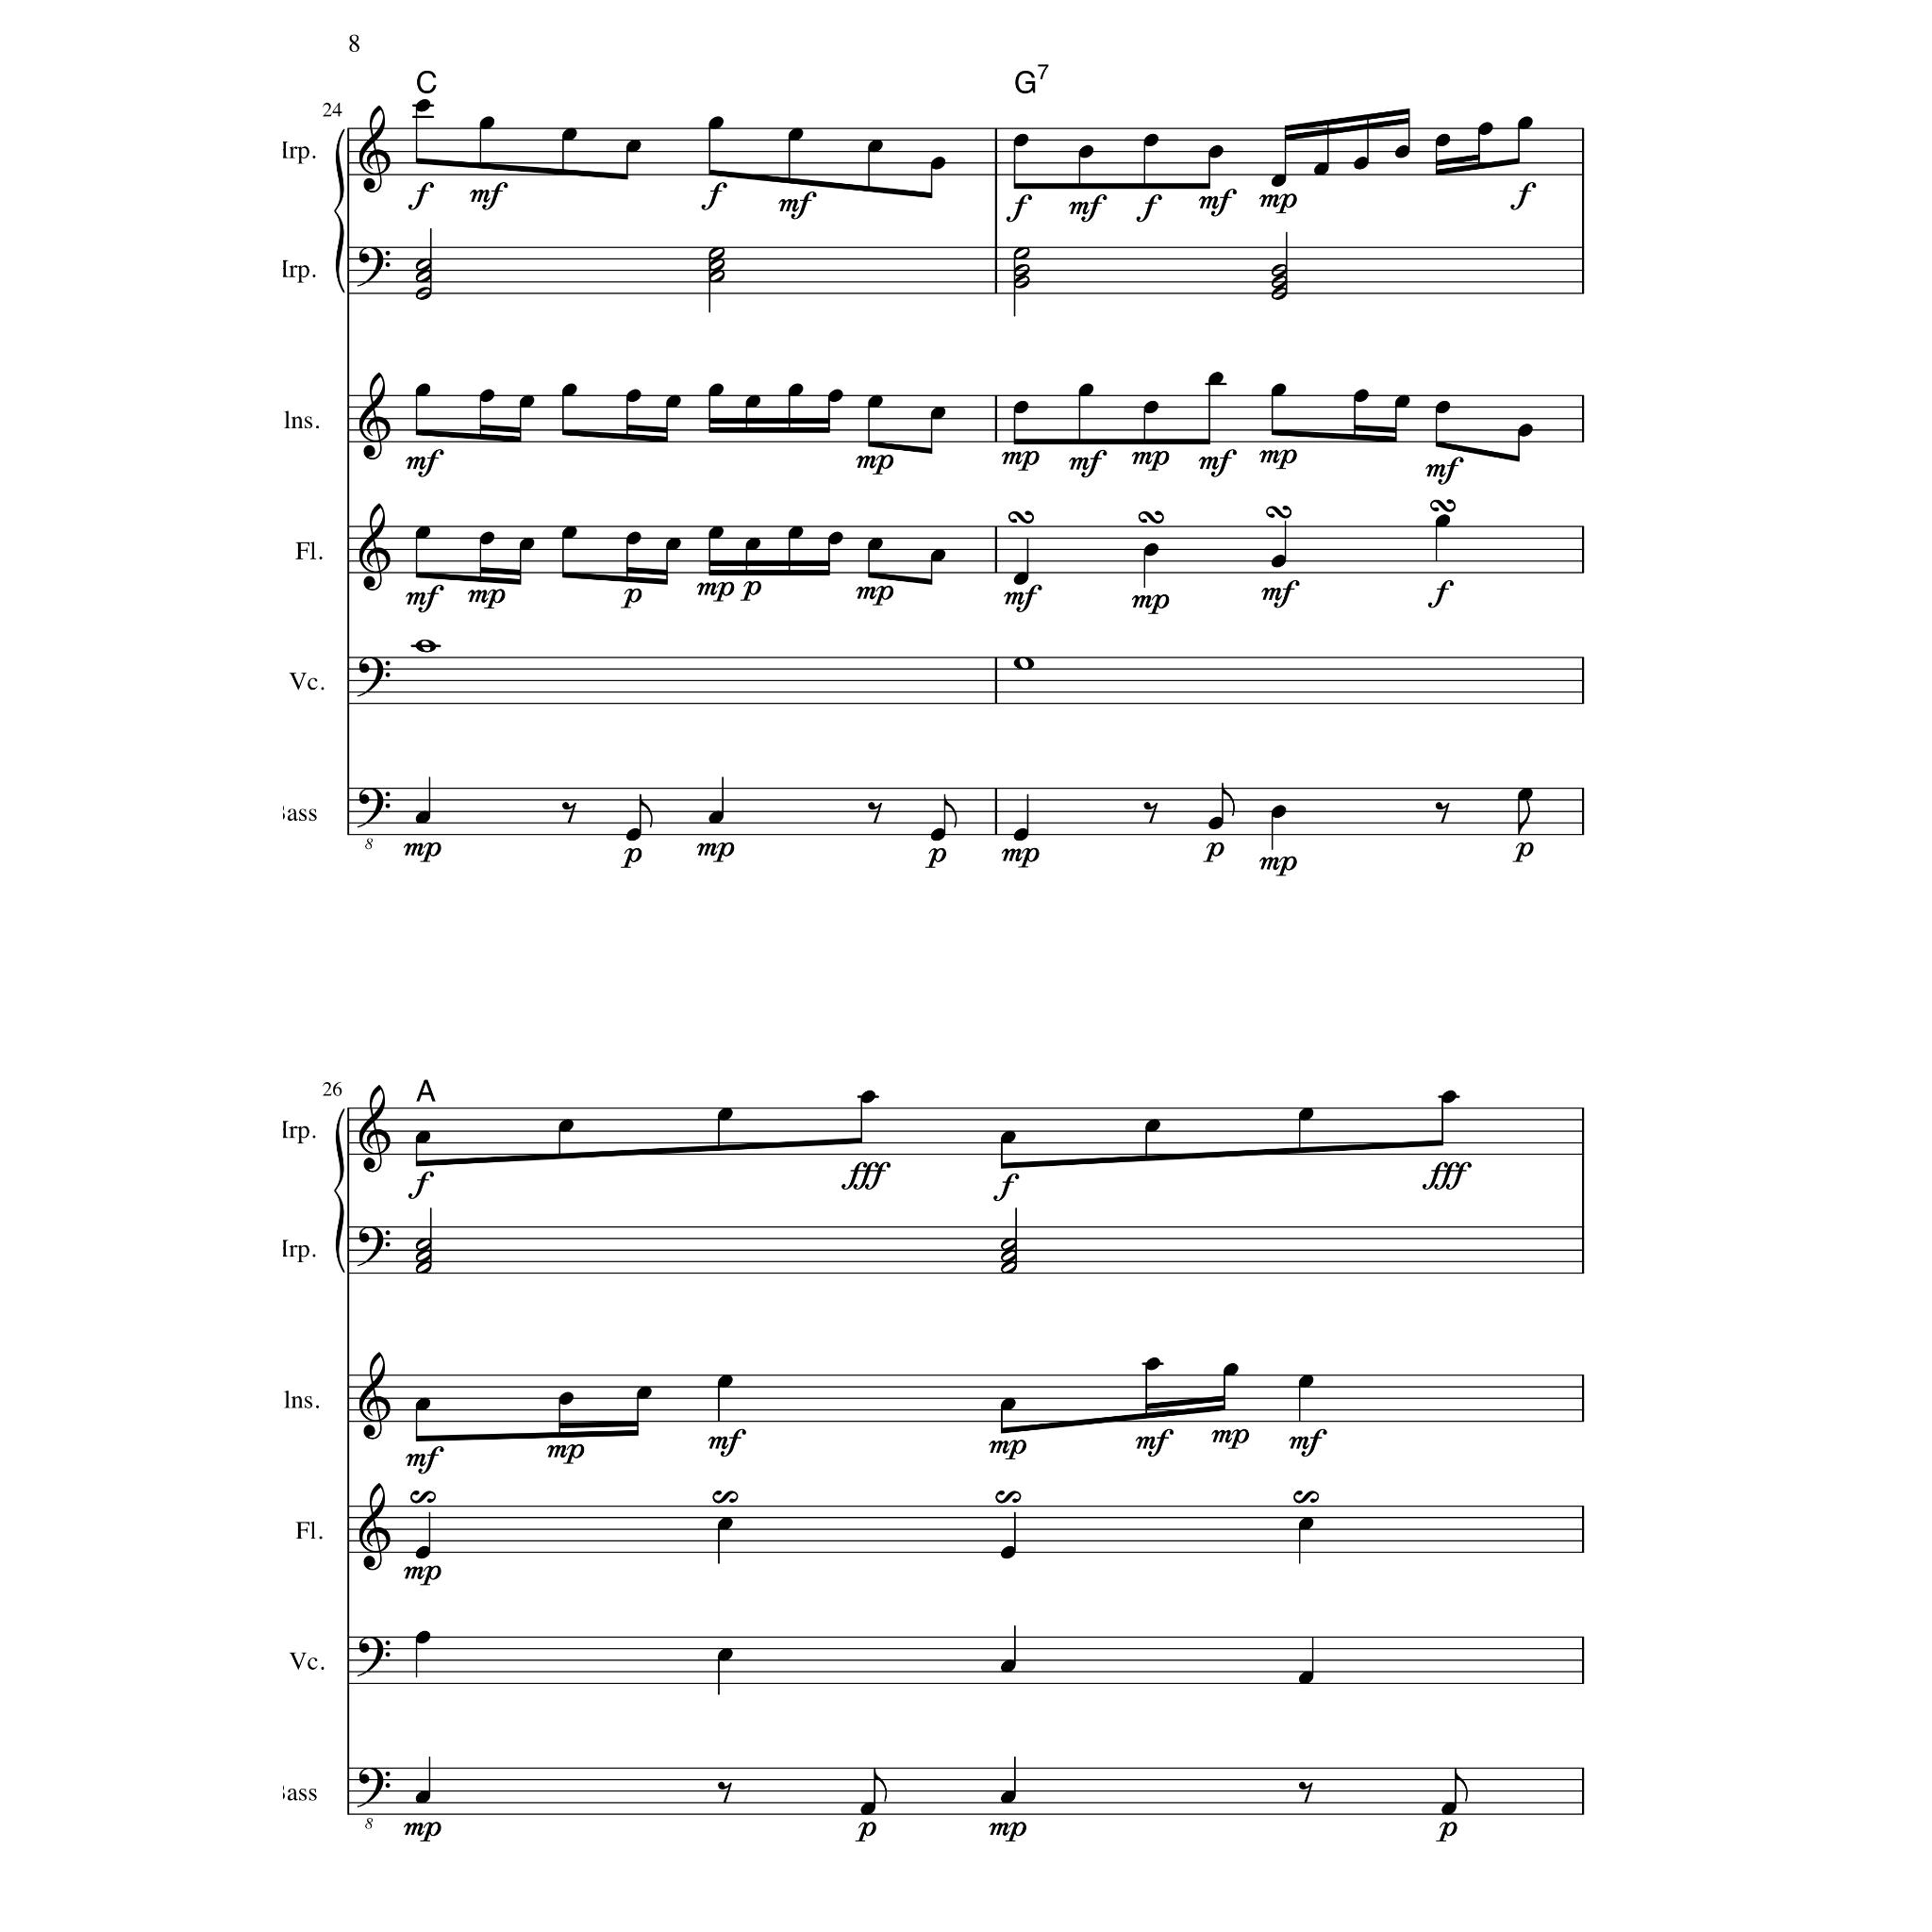brace: (333, 128, 344, 294), (333, 1109, 344, 1274)
fClef: (357, 657, 391, 698), (357, 1636, 391, 1677), (357, 247, 391, 287), (357, 789, 391, 828), (357, 1768, 391, 1807), (357, 1226, 391, 1266)
flag8thDown: (1519, 800, 1530, 836)
flag8thUp: (1222, 783, 1235, 817), (944, 794, 958, 828), (640, 794, 653, 828), (1455, 1768, 1468, 1802), (874, 1768, 887, 1802)
gClef: (358, 105, 391, 193), (358, 372, 391, 460), (358, 503, 391, 591), (358, 1482, 391, 1571), (358, 1084, 391, 1173), (358, 1353, 391, 1440)
noteheadBlack: (1434, 513, 1451, 528), (1353, 389, 1370, 404), (625, 389, 641, 404), (826, 389, 843, 404), (636, 1385, 653, 1400), (479, 389, 494, 404), (1145, 1357, 1160, 1372), (1207, 145, 1224, 158), (1207, 372, 1224, 385), (1207, 817, 1224, 830), (1270, 805, 1287, 818), (1270, 175, 1287, 188), (1270, 384, 1287, 397), (1270, 555, 1287, 568), (1434, 134, 1451, 147), (1434, 401, 1451, 414), (1313, 162, 1330, 175), (1353, 157, 1370, 170), (1517, 117, 1534, 130), (1517, 424, 1534, 437), (1517, 788, 1534, 801), (560, 128, 577, 142), (625, 140, 641, 153), (625, 532, 641, 545), (625, 828, 641, 841), (560, 384, 577, 397), (560, 525, 577, 539), (787, 384, 804, 397), (787, 525, 804, 539), (826, 532, 843, 545), (787, 128, 804, 142), (1298, 1671, 1315, 1684), (1298, 1517, 1315, 1530), (1298, 1374, 1315, 1388), (1298, 1108, 1315, 1121), (1440, 1802, 1457, 1815), (1440, 1091, 1457, 1104), (1143, 543, 1158, 557), (1143, 401, 1158, 414), (1013, 401, 1028, 414), (1013, 573, 1028, 586), (1013, 828, 1028, 841), (1078, 145, 1093, 158), (1078, 384, 1093, 397), (1143, 134, 1158, 147), (1394, 395, 1409, 408), (1394, 145, 1409, 158), (1477, 123, 1492, 136), (519, 395, 534, 408), (519, 538, 534, 551), (479, 117, 494, 130), (479, 532, 494, 545), (415, 811, 430, 824), (415, 99, 430, 112), (415, 384, 430, 397), (415, 525, 430, 539), (868, 140, 883, 153), (868, 395, 883, 408), (868, 538, 883, 551), (1013, 134, 1028, 147), (930, 157, 945, 170), (930, 407, 945, 420), (930, 549, 945, 562), (930, 828, 945, 841), (708, 117, 724, 130), (708, 384, 724, 397), (708, 525, 724, 539), (708, 811, 724, 824), (666, 395, 681, 408), (666, 538, 681, 551), (745, 395, 760, 408), (745, 538, 760, 551), (1223, 1363, 1238, 1376), (1145, 1119, 1160, 1132), (1000, 1790, 1015, 1804), (1000, 1659, 1015, 1673), (1000, 1546, 1015, 1559), (1000, 1397, 1015, 1410), (1000, 1130, 1015, 1143), (415, 1397, 430, 1410), (415, 1130, 430, 1143), (415, 1546, 430, 1559), (415, 1790, 430, 1804), (415, 1631, 430, 1644), (718, 1648, 733, 1661), (718, 1517, 733, 1530), (860, 1802, 875, 1815), (718, 1374, 733, 1388), (860, 1091, 875, 1104), (718, 1108, 733, 1121), (558, 1392, 574, 1406), (558, 1119, 574, 1132)
noteheadHalf: (1000, 1260, 1017, 1275), (415, 1260, 432, 1275), (1013, 247, 1030, 260), (1271, 287, 1288, 300), (1271, 275, 1288, 289), (1271, 264, 1288, 277), (1013, 264, 1030, 277), (415, 287, 432, 300), (415, 270, 432, 283), (415, 258, 432, 272), (1013, 275, 1030, 289), (708, 270, 725, 283), (708, 258, 725, 272), (708, 247, 725, 260), (1000, 1250, 1017, 1263), (1000, 1238, 1017, 1251), (415, 1238, 432, 1251), (415, 1250, 432, 1263)
noteheadWhole: (1013, 657, 1034, 670), (415, 640, 436, 653)
rest8th: (1143, 802, 1158, 824), (1435, 802, 1450, 824), (561, 802, 576, 824), (867, 802, 882, 824), (1298, 1781, 1313, 1804), (717, 1781, 732, 1804)
